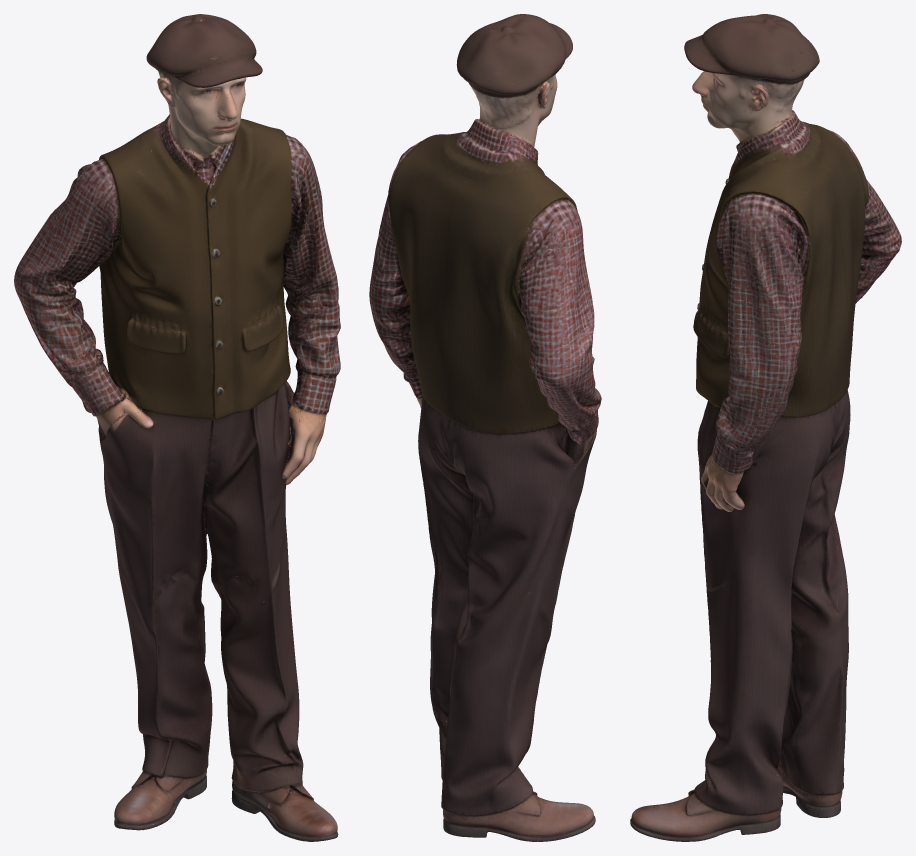
The model's file is Meshy_AI_Civilian_Man_0129180210_texture.fbx.
3 views of the same model, side by side, from view 1: azimuth 30°, elevation 25°; view 2: azimuth 150°, elevation 25°; view 3: azimuth 270°, elevation 25° (orthographic).
Visible parts, largest first — view 1: Mesh_0; view 2: Mesh_0; view 3: Mesh_0.
Part boxes in pixels (bbox=[...]): Mesh_0: bbox=[14, 14, 340, 841]; Mesh_0: bbox=[369, 14, 601, 841]; Mesh_0: bbox=[630, 14, 901, 841].
Size of the model in its own units: 68.85 by 200 by 62.89.
Materials: 1 (1 with a texture image).
